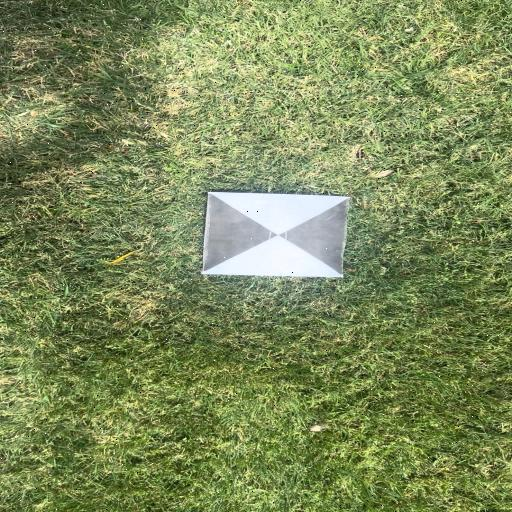target: (209, 194, 346, 278)
